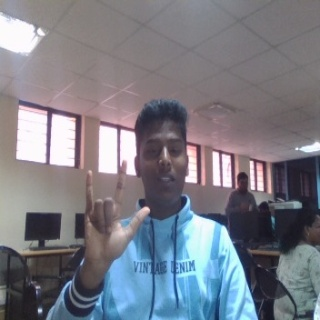Face: (133, 99, 191, 205)
I Love You: (81, 157, 154, 267)
